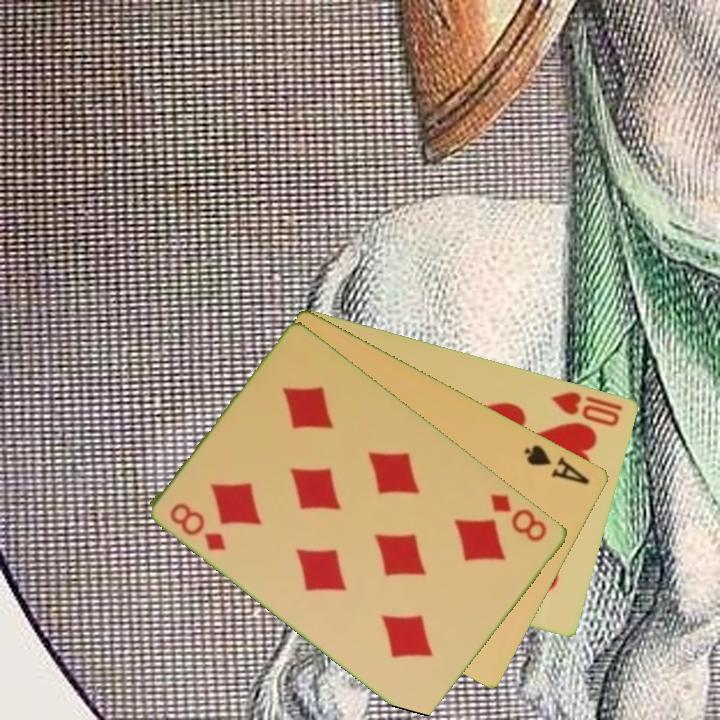10h: (547, 387, 623, 429)
8d: (487, 490, 551, 545), (167, 499, 230, 554)
As: (521, 441, 594, 488)
